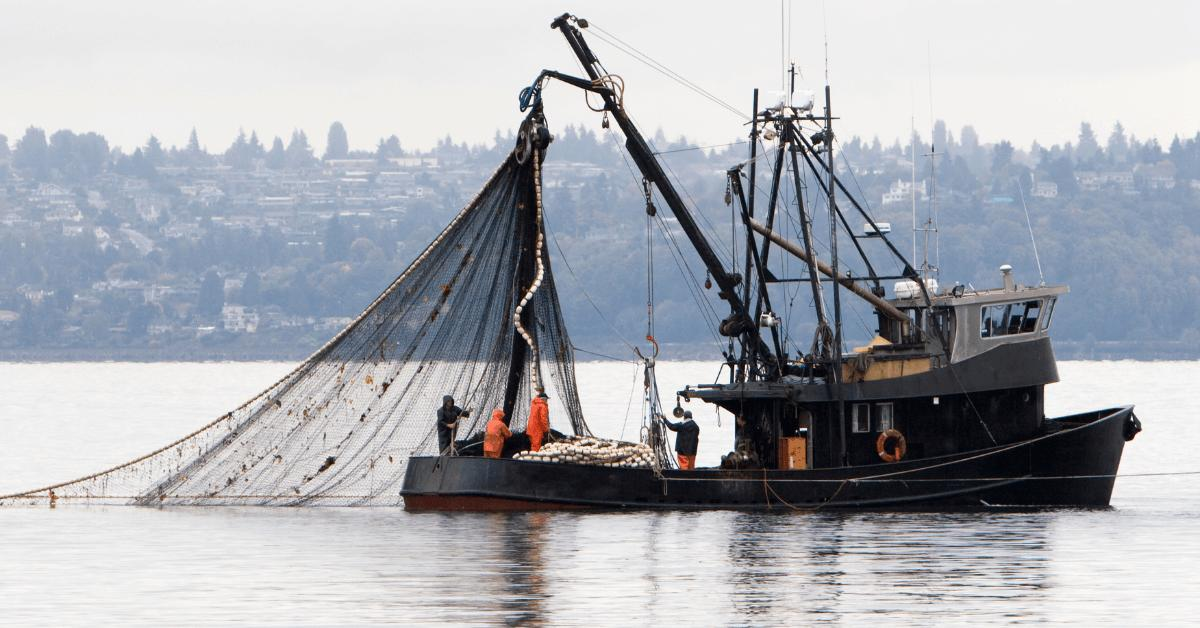fishing boat: (2, 8, 1147, 518)
